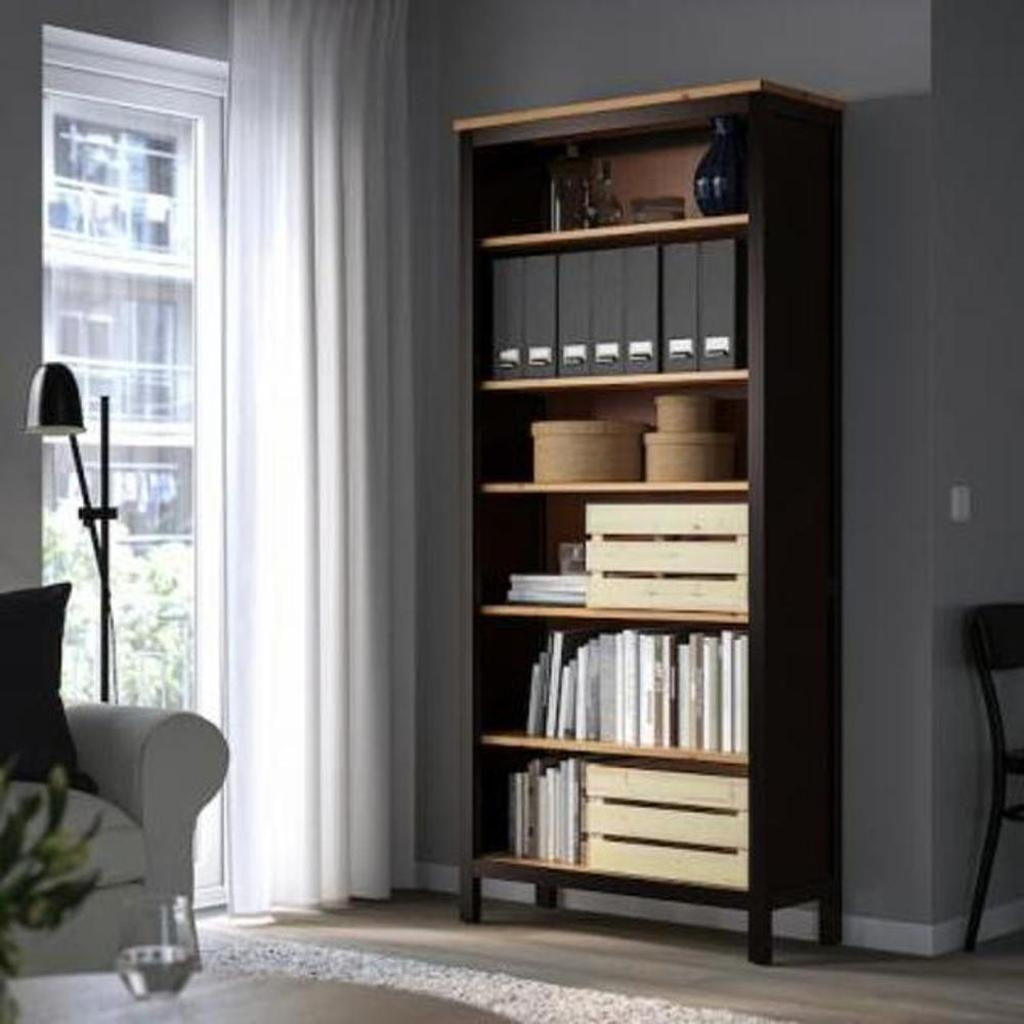lamp: (449, 71, 854, 965)
